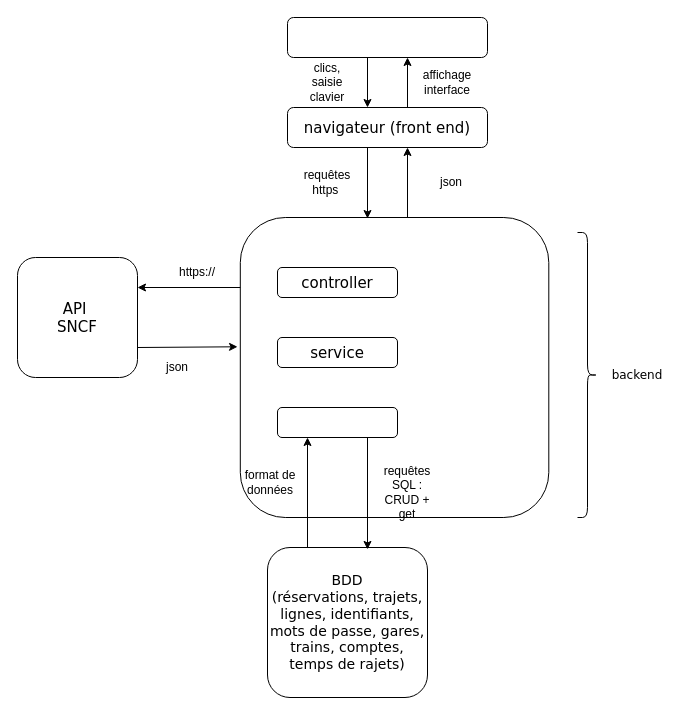
Image size: 685x715. Some labels were removed from this diagram. Each missing label, with the centre of its shape:
DAO: the point at 337,422
utilisateur: the point at 387,37
